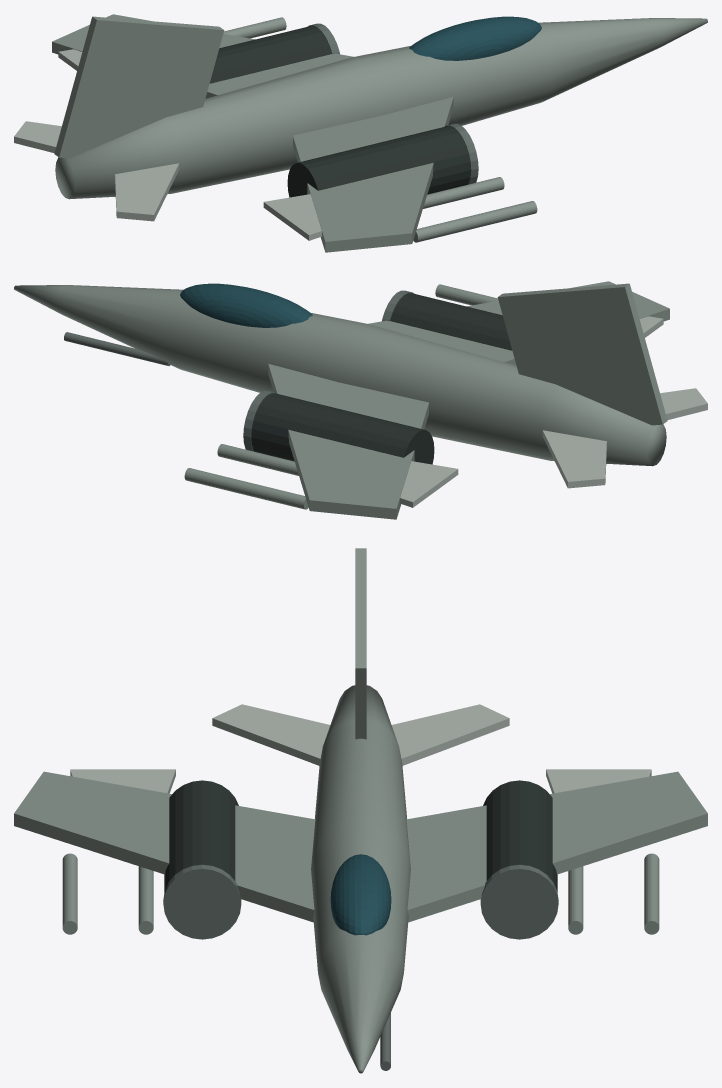
File: attacker.glb
The picture shows the model from 3 angles, top to bottom: view 1: azimuth 30°, elevation 25°; view 2: azimuth 150°, elevation 25°; view 3: azimuth 270°, elevation 25°; orthographic projection. The views are drawn at different scales.
Visible parts, largest first — view 1: AttackerFuselage, AttackerVerticalTail, StraightCombatWing, TurbofanNacelle_1, ArmoredCanopy, AttackerTailPlane, TurbofanNacelle_-1, GuidedMissile.003, AileronSurface.001, GuidedMissile.002, GuidedMissile.001, TurbofanIntake_1; view 2: AttackerFuselage, AttackerVerticalTail, StraightCombatWing, TurbofanNacelle_-1, ArmoredCanopy, AttackerTailPlane, TurbofanNacelle_1, GuidedMissile.001, AileronSurface, GuidedMissile, NoseCannon, GuidedMissile.003 (+1 smaller); view 3: StraightCombatWing, AttackerFuselage, AttackerTailPlane, TurbofanNacelle_-1, TurbofanNacelle_1, TurbofanIntake_-1, TurbofanIntake_1, ArmoredCanopy, AttackerVerticalTail, AileronSurface, AileronSurface.001, GuidedMissile.001 (+3 smaller).
Boxes of the visible parts, x1,y1,x2,y2 form: AttackerFuselage: (55, 18, 707, 199); AttackerVerticalTail: (54, 16, 224, 158); StraightCombatWing: (52, 14, 453, 252); TurbofanNacelle_1: (287, 126, 470, 197); ArmoredCanopy: (409, 16, 541, 60); AttackerTailPlane: (14, 121, 179, 221); TurbofanNacelle_-1: (209, 26, 331, 83); GuidedMissile.003: (413, 201, 537, 242); AileronSurface.001: (263, 194, 321, 240); GuidedMissile.002: (423, 177, 504, 208); GuidedMissile.001: (223, 17, 286, 38); TurbofanIntake_1: (444, 123, 478, 184); AttackerFuselage: (14, 285, 666, 466); AttackerVerticalTail: (497, 283, 667, 425); StraightCombatWing: (268, 281, 669, 519); TurbofanNacelle_-1: (251, 393, 434, 464); ArmoredCanopy: (180, 283, 312, 327); AttackerTailPlane: (542, 388, 707, 488); TurbofanNacelle_1: (390, 293, 512, 350); GuidedMissile.001: (184, 468, 308, 509); AileronSurface: (400, 461, 458, 507); GuidedMissile: (217, 444, 298, 475); NoseCannon: (64, 332, 170, 365); GuidedMissile.003: (435, 284, 498, 305); StraightCombatWing: (14, 771, 707, 922); AttackerFuselage: (311, 685, 410, 1073); AttackerTailPlane: (212, 704, 509, 765); TurbofanNacelle_-1: (483, 780, 557, 891); TurbofanNacelle_1: (164, 780, 238, 891); TurbofanIntake_-1: (480, 864, 558, 939); TurbofanIntake_1: (163, 864, 241, 939); ArmoredCanopy: (330, 854, 391, 935); AttackerVerticalTail: (355, 548, 366, 739); AileronSurface: (546, 769, 651, 793); AileronSurface.001: (70, 769, 175, 793); GuidedMissile.001: (644, 853, 659, 934).
Size of the model in its own units: 26.35 by 7.63 by 21.
